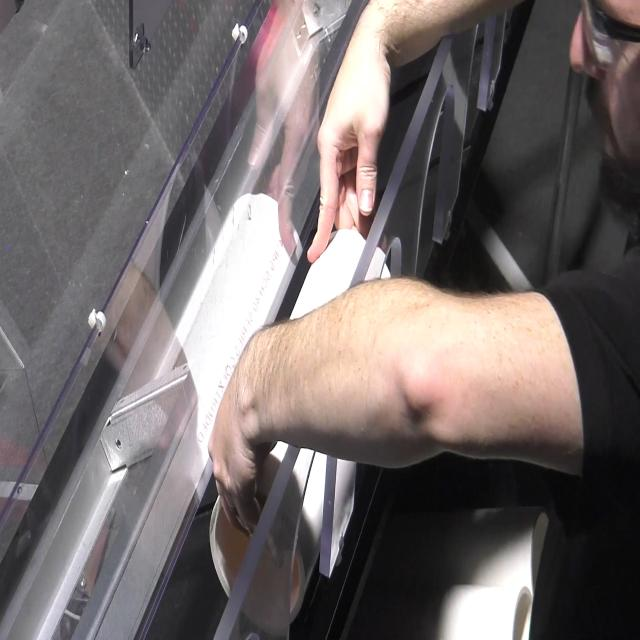Coral: (208, 224, 392, 636)
